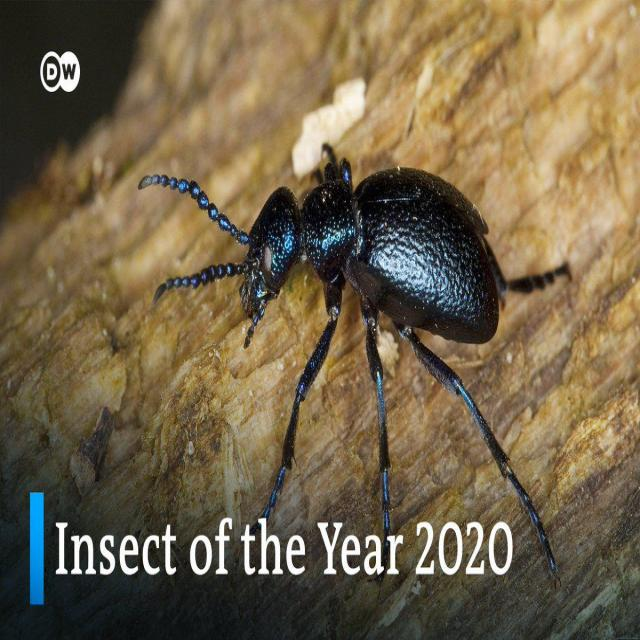BlisterBeetle-Adult-: (110, 123, 566, 572)
